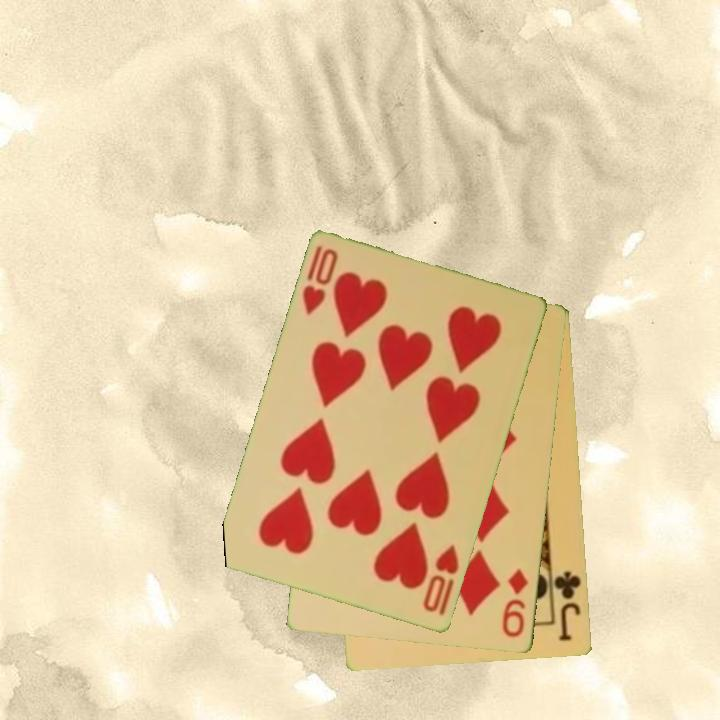10h: (299, 242, 342, 319), (419, 541, 463, 616)
9d: (499, 566, 531, 641)
Jc: (551, 568, 584, 645)
